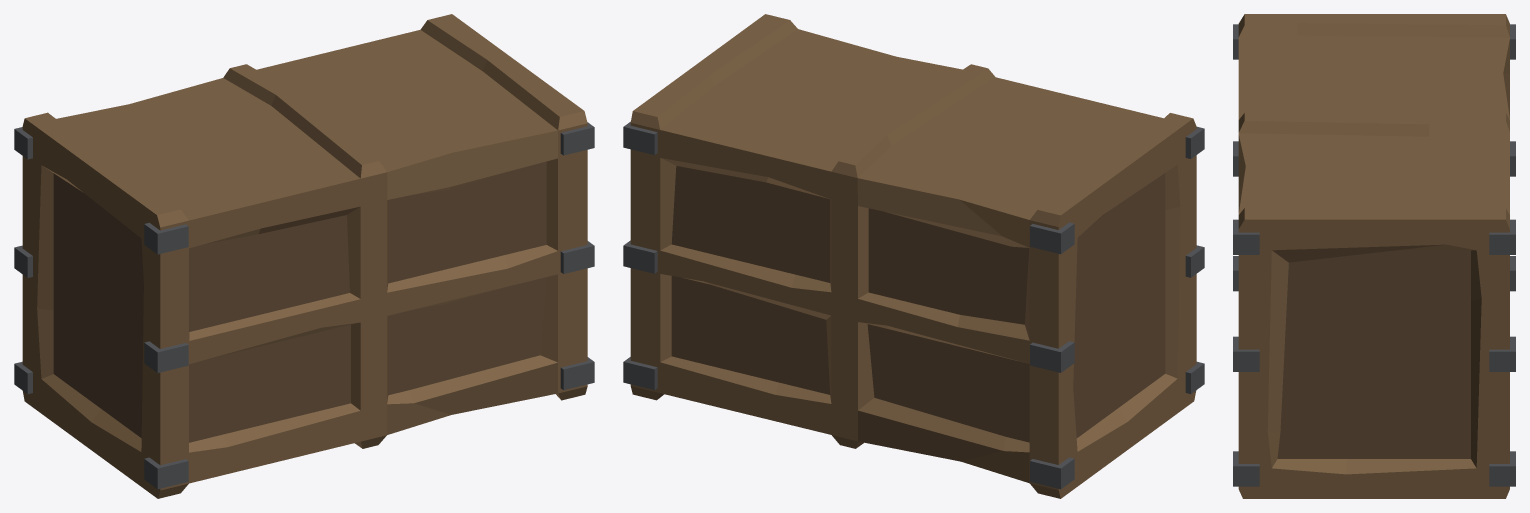
Rendered from SM_Prop_Crate_Wood_05.glb.
3 views of the same model, side by side, from view 1: azimuth 30°, elevation 25°; view 2: azimuth 150°, elevation 25°; view 3: azimuth 270°, elevation 25° (orthographic).
Parts seen in each view (by area): view 1: SM_Prop_Crate_Wood_05; view 2: SM_Prop_Crate_Wood_05; view 3: SM_Prop_Crate_Wood_05.
Boxes of the visible parts, left/top/right/bottom form: SM_Prop_Crate_Wood_05: left=14, top=14, right=594, bottom=498; SM_Prop_Crate_Wood_05: left=623, top=14, right=1204, bottom=498; SM_Prop_Crate_Wood_05: left=1233, top=14, right=1515, bottom=498.
Bounding box in the file's own units: 0.016 × 0.00991 × 0.00909.
Materials: 1 (1 with a texture image).
